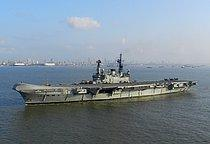MIL_Ship: (12, 53, 195, 103)
